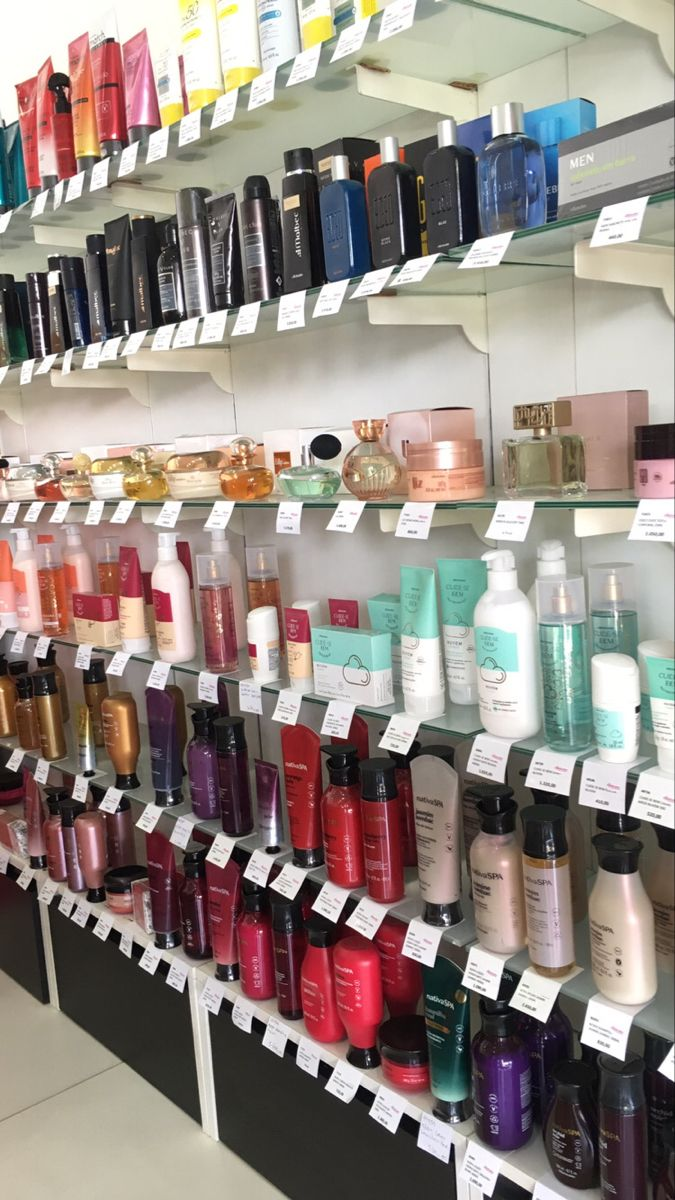Shampoo: (476, 589, 540, 736), (406, 127, 479, 252), (282, 149, 323, 291), (151, 533, 195, 663)
